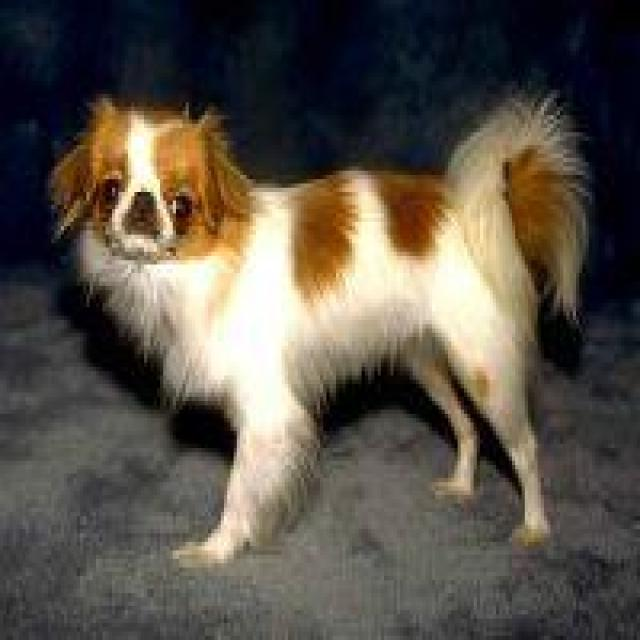husky: (42, 102, 592, 559)
